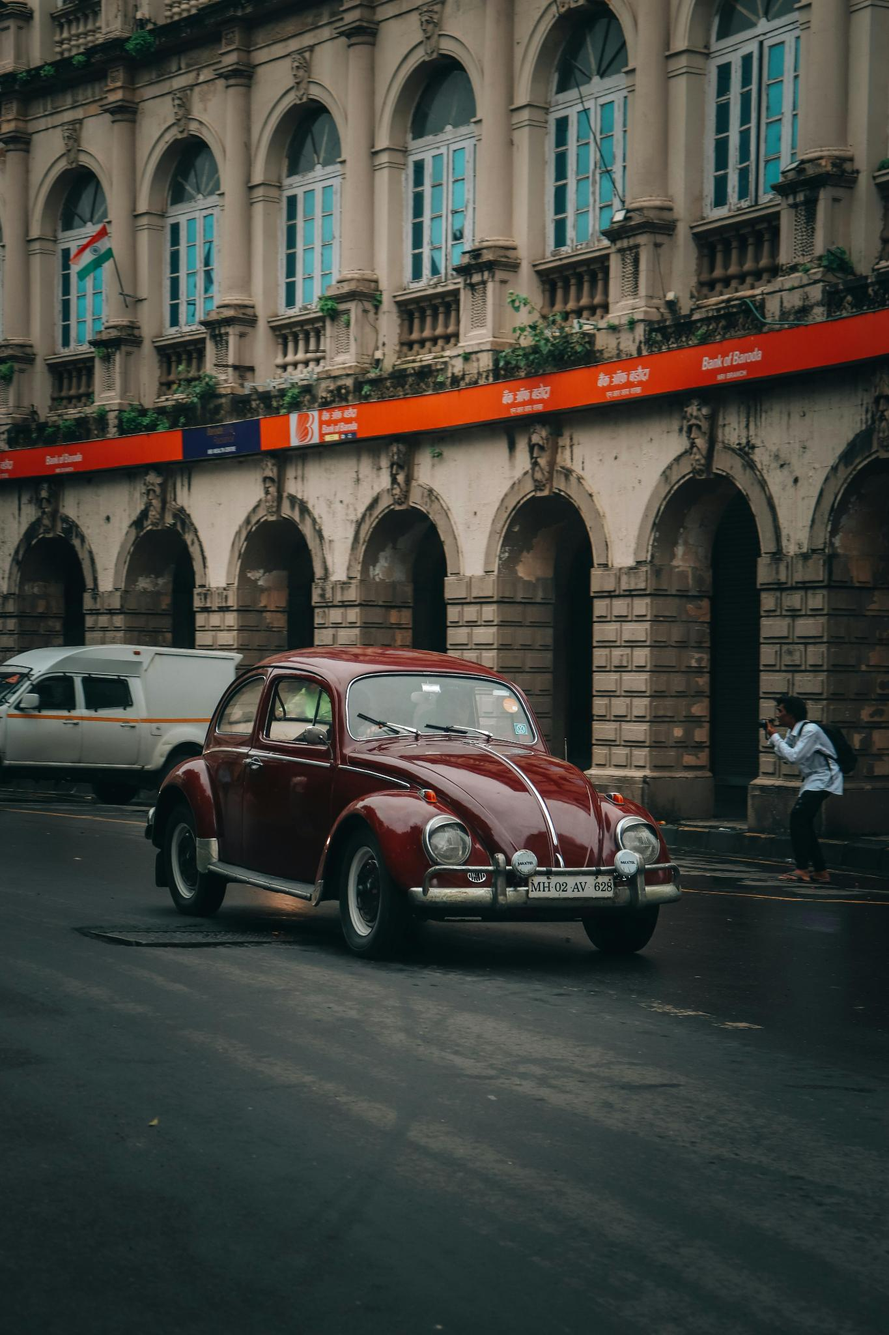car: (213, 655, 658, 940)
